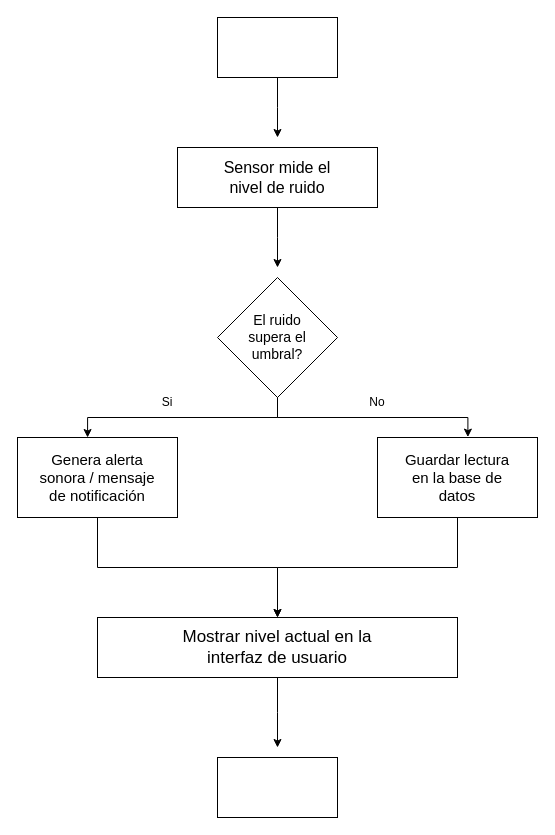
Image size: 555x835. Some labels were removed from this diagram. The shapes that lost their labels are listed below. From the top down, each one's centre as x and y in pixels, then its label:
[277,47]: Inicio
[277,787]: Fin
